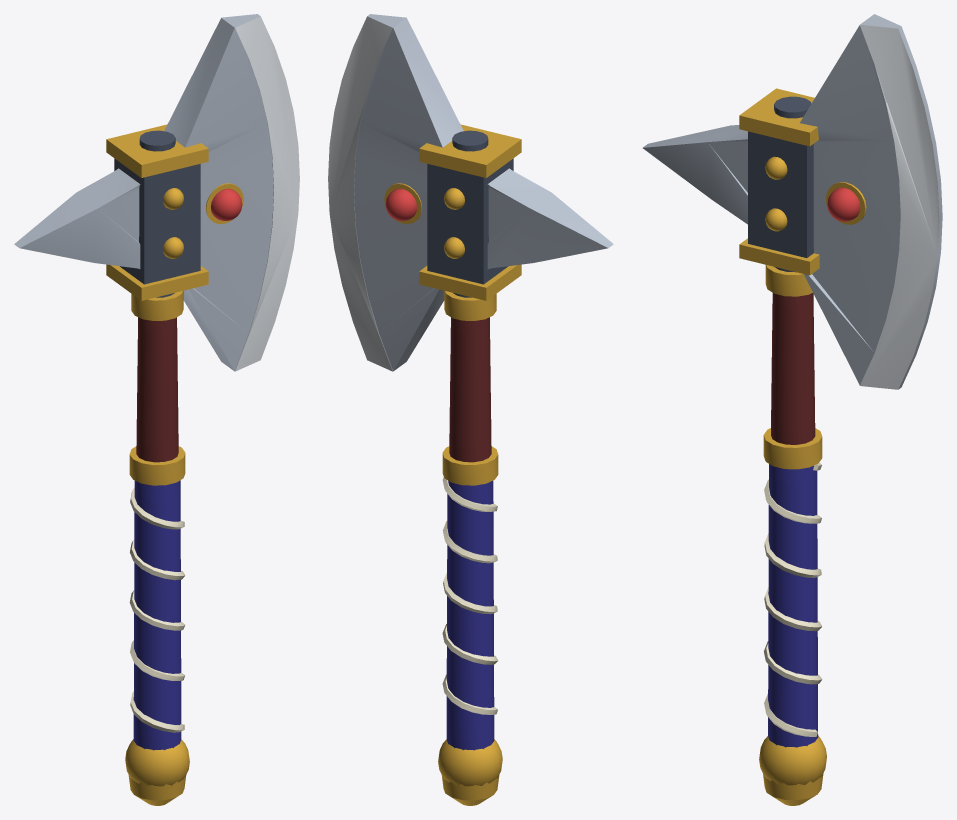
The picture shows the model from 3 angles, left to right: view 1: azimuth 30°, elevation 25°; view 2: azimuth 150°, elevation 25°; view 3: azimuth 330°, elevation 25°; orthographic projection. The views are drawn at different scales.
Parts seen in each view (by area): view 1: body; view 2: body; view 3: body.
Part boxes in pixels (x1,y1,x2,y2): body: (14, 14, 299, 805); body: (328, 14, 613, 805); body: (642, 14, 942, 805).
Bounding box in the file's own units: 0.36 × 0.93 × 0.0924.
1 material, 1 textured.
